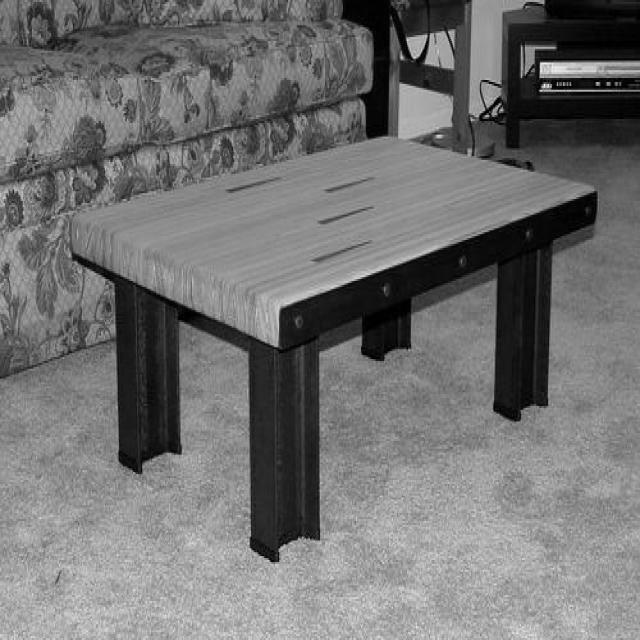table: (70, 136, 598, 564)
